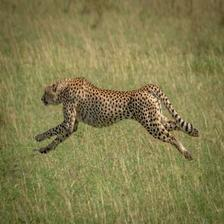Cheetah: (34, 75, 204, 162)
